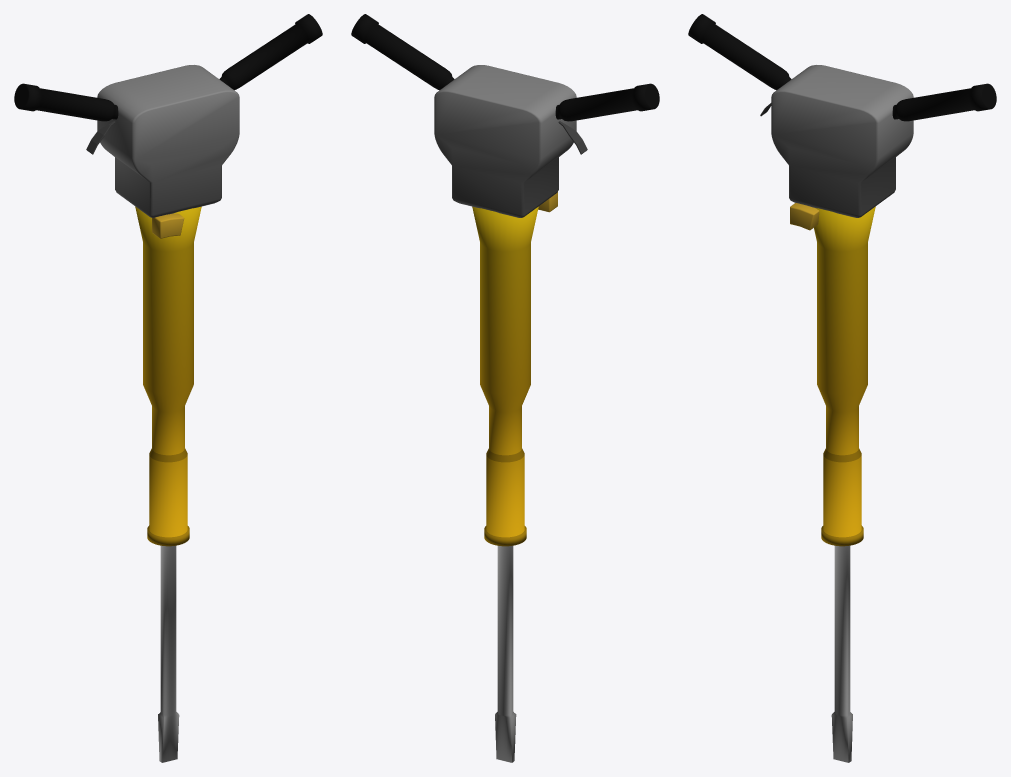
The model's file is Drill.fbx.
3 renders of one model, left to right at view 1: azimuth 30°, elevation 25°; view 2: azimuth 150°, elevation 25°; view 3: azimuth 330°, elevation 25°, orthographic.
Parts seen in each view (by area): view 1: Otboinik; view 2: Otboinik; view 3: Otboinik.
Boxes of the visible parts, x1,y1,x2,y2 form: Otboinik: [14, 14, 322, 762]; Otboinik: [351, 14, 659, 762]; Otboinik: [688, 14, 996, 762].
Size of the model in its own units: 166 by 375 by 38.99.
